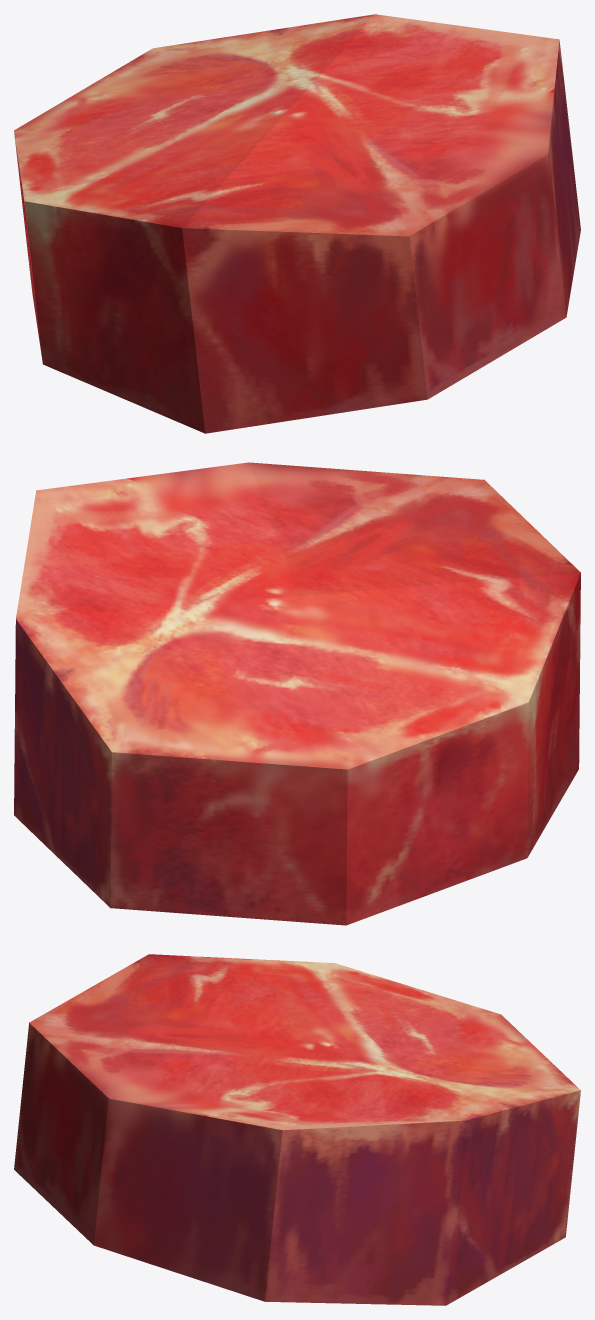
Rendered from 06_meat_piece_04.obj.
The picture shows the model from 3 angles, top to bottom: view 1: azimuth 30°, elevation 25°; view 2: azimuth 150°, elevation 25°; view 3: azimuth 270°, elevation 25°; orthographic projection. The views are drawn at different scales.
Parts seen in each view (by area): view 1: 06_meat_piece_04; view 2: 06_meat_piece_04; view 3: 06_meat_piece_04.
Part boxes in pixels (<box>): 06_meat_piece_04: <box>14,14,580,433</box>; 06_meat_piece_04: <box>14,462,580,925</box>; 06_meat_piece_04: <box>14,954,580,1305</box>.
Bounding box in the file's own units: 0.7143 × 0.3122 × 0.7579.
1 material, 1 textured.
